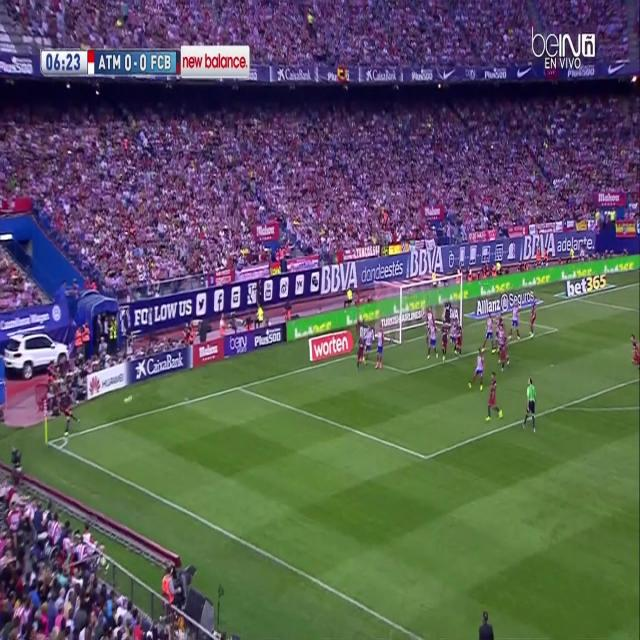Ball: (120, 394, 134, 408)
Player: (481, 369, 504, 428), (58, 393, 81, 439), (467, 344, 487, 394), (496, 322, 512, 372), (509, 301, 525, 344), (425, 318, 439, 367), (480, 310, 494, 353), (375, 325, 387, 373), (628, 333, 640, 375), (528, 299, 539, 342), (363, 325, 375, 363), (354, 333, 366, 368), (438, 320, 448, 362), (456, 317, 464, 362), (450, 318, 457, 359)
Referee: (522, 377, 538, 433)
